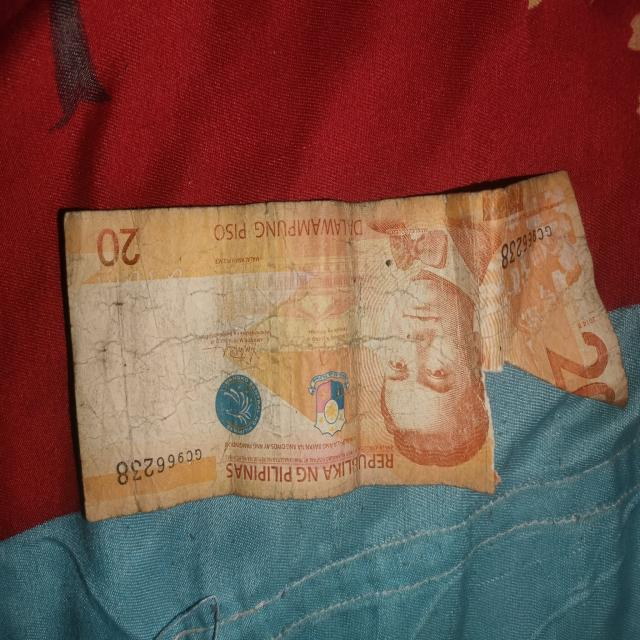broken: (58, 171, 632, 522)
torn: (466, 347, 630, 504)
